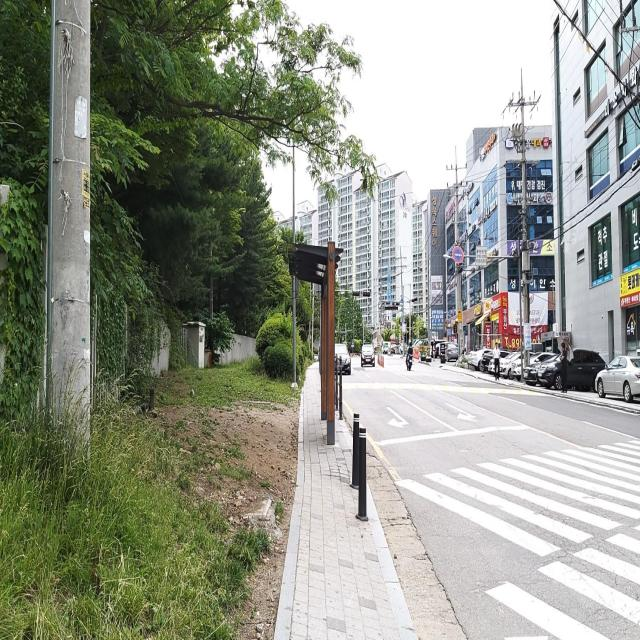횡단보도: (393, 433, 640, 640)
